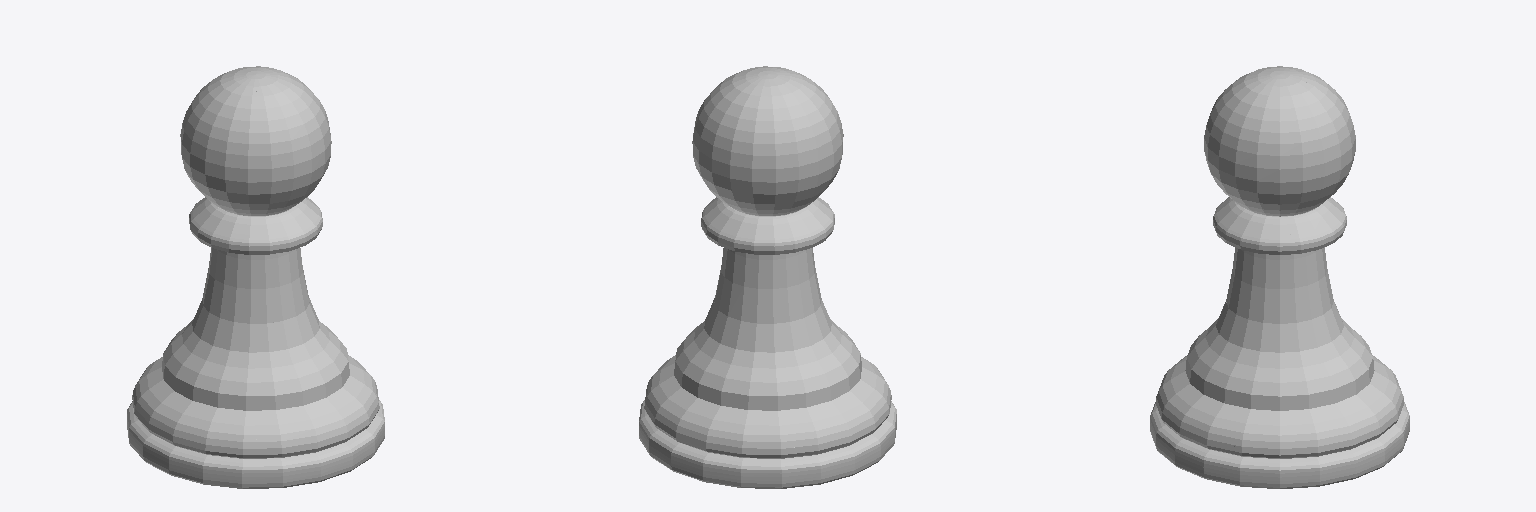
Rendered from pawn_w_5.obj.
3 views of the same model, side by side, from view 1: azimuth 30°, elevation 25°; view 2: azimuth 150°, elevation 25°; view 3: azimuth 270°, elevation 25° (orthographic).
Visible parts, largest first — view 1: pawn_w_5; view 2: pawn_w_5; view 3: pawn_w_5.
Boxes of the visible parts, x1,y1,x2,y2 form: pawn_w_5: [127, 66, 384, 488]; pawn_w_5: [639, 66, 896, 488]; pawn_w_5: [1150, 66, 1409, 488].
Bounding box in the file's own units: 2.73 × 4.2 × 2.73.